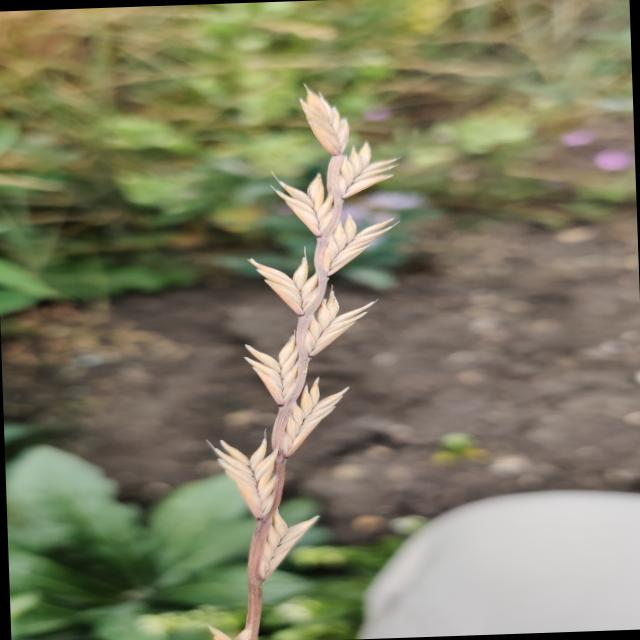Lolium: (187, 78, 420, 640)
